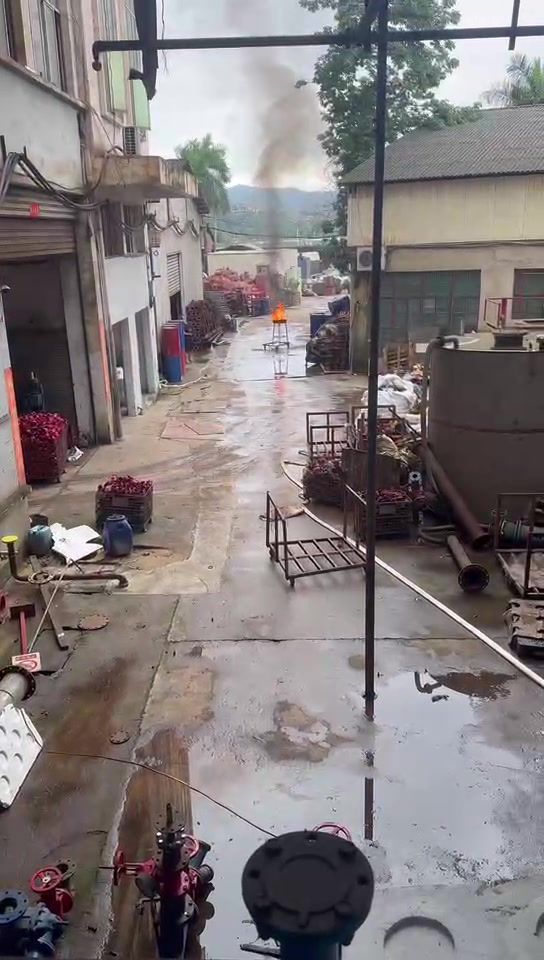fire: (271, 304, 286, 319)
